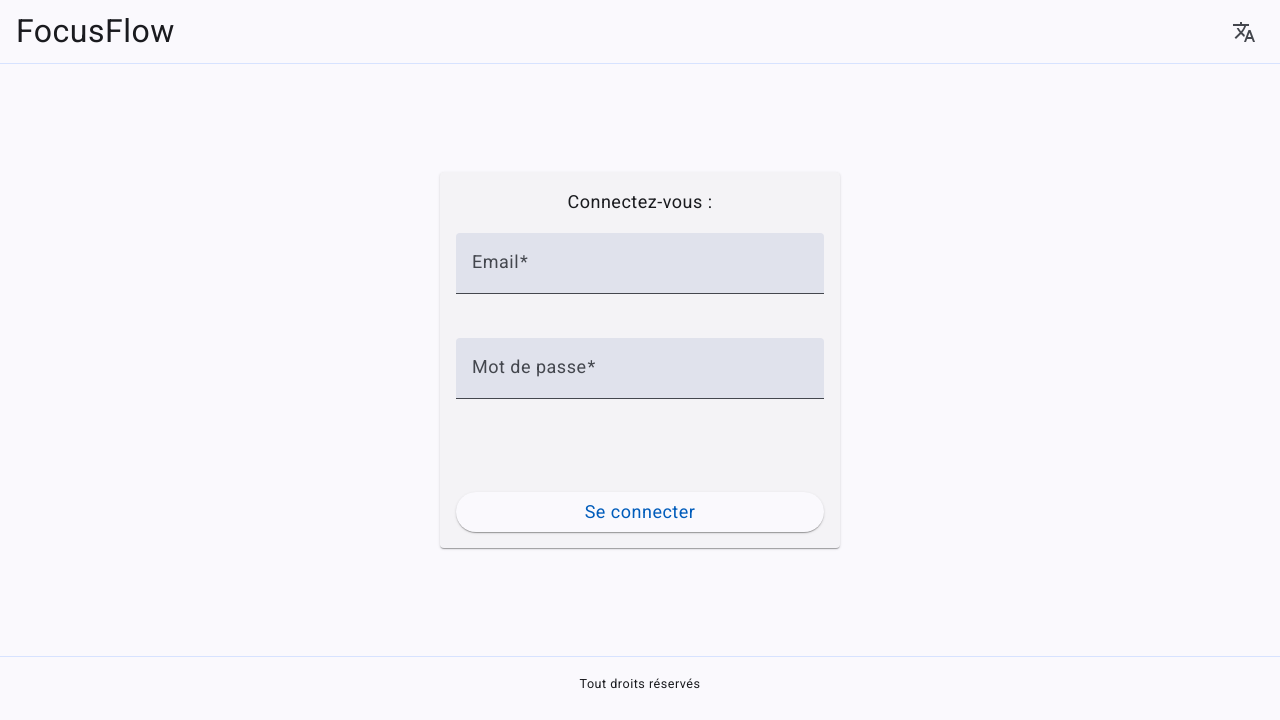
Test: Login Page Tests › should display error when invalid password pattern
In the password field with test id "login-password": [640, 377] box [472, 362, 808, 391], type "wrongpw"
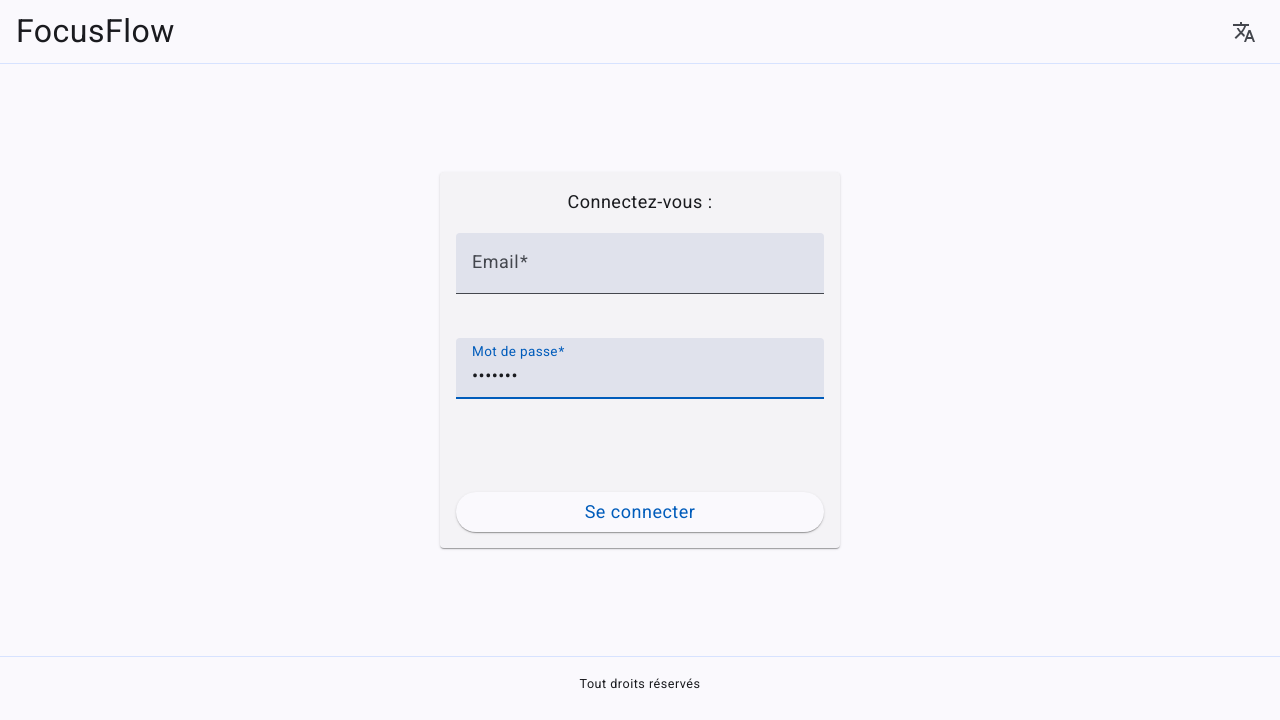
Leave the password field with test id "login-password", box [472, 362, 808, 391]
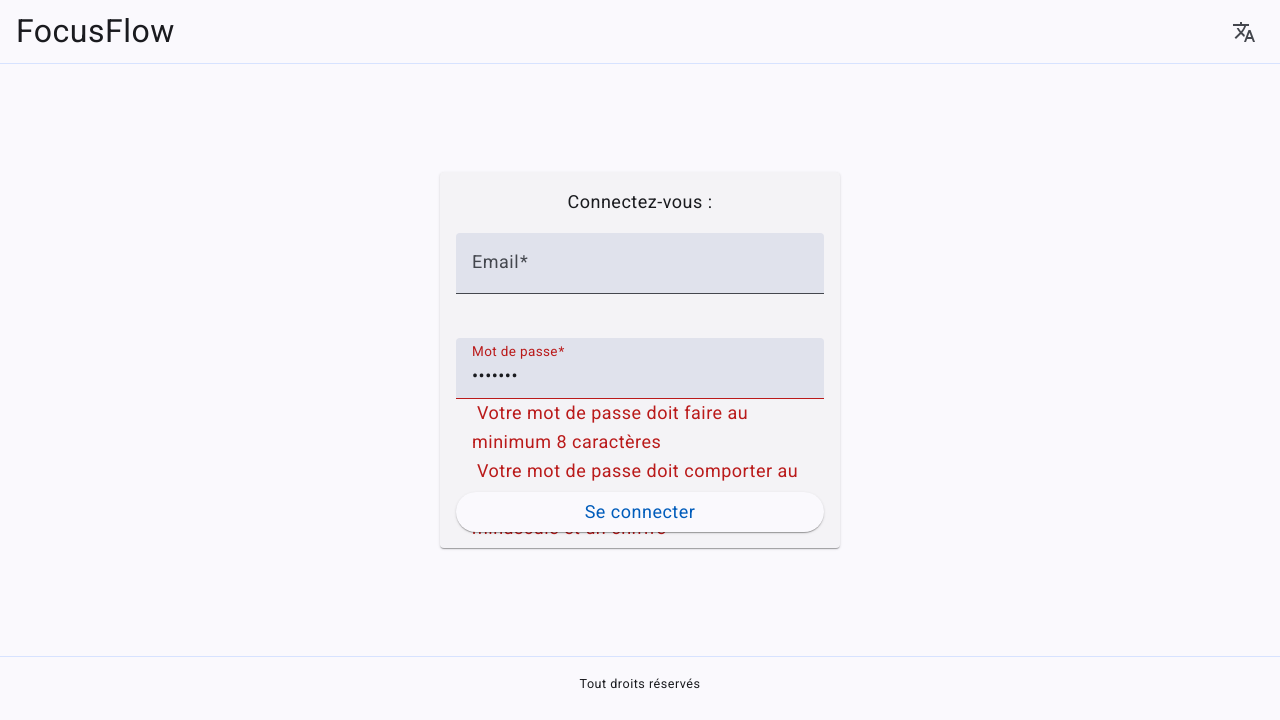
Result: the text "Votre mot de passe doit faire au minimum 8 caractères" is shown at [472, 402, 748, 452]
